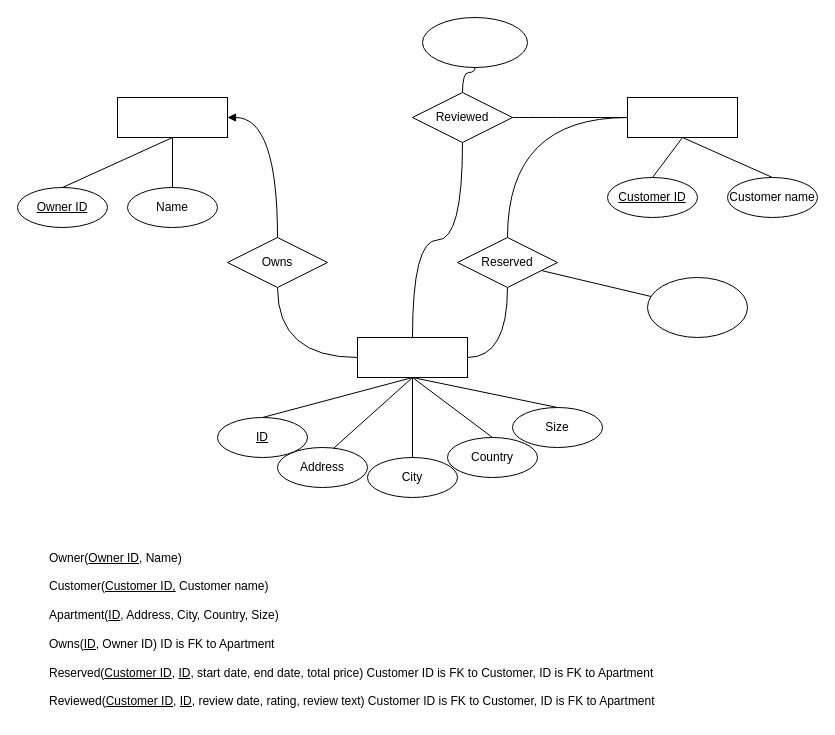
Some shapes in this 835 by 735 pixel diagram are drawn without their labels. Here are the shapes that lost their labels. From the top down, the box of each, then its label:
(422, 16, 528, 68): review date rating review text
(116, 96, 228, 138): Owner
(626, 96, 738, 138): Customer
(646, 276, 748, 338): start date end date total price
(356, 336, 468, 378): Apartment
